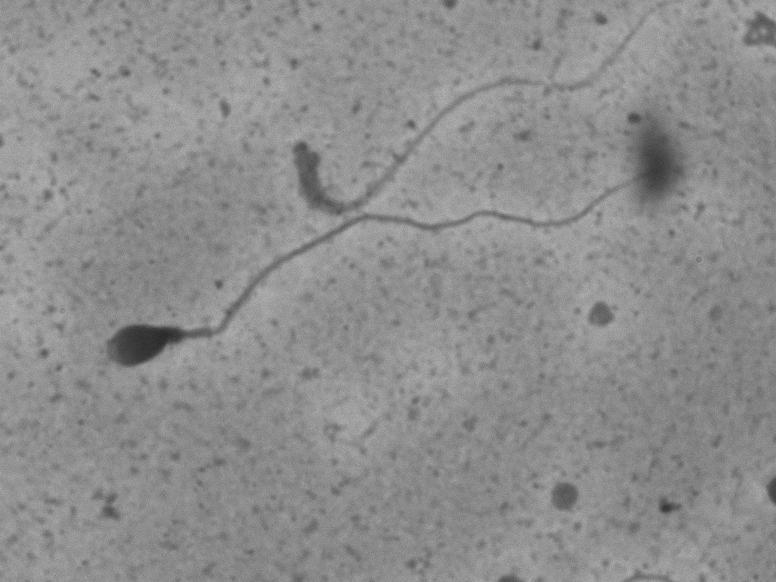Abnormal: (90, 142, 718, 393)
